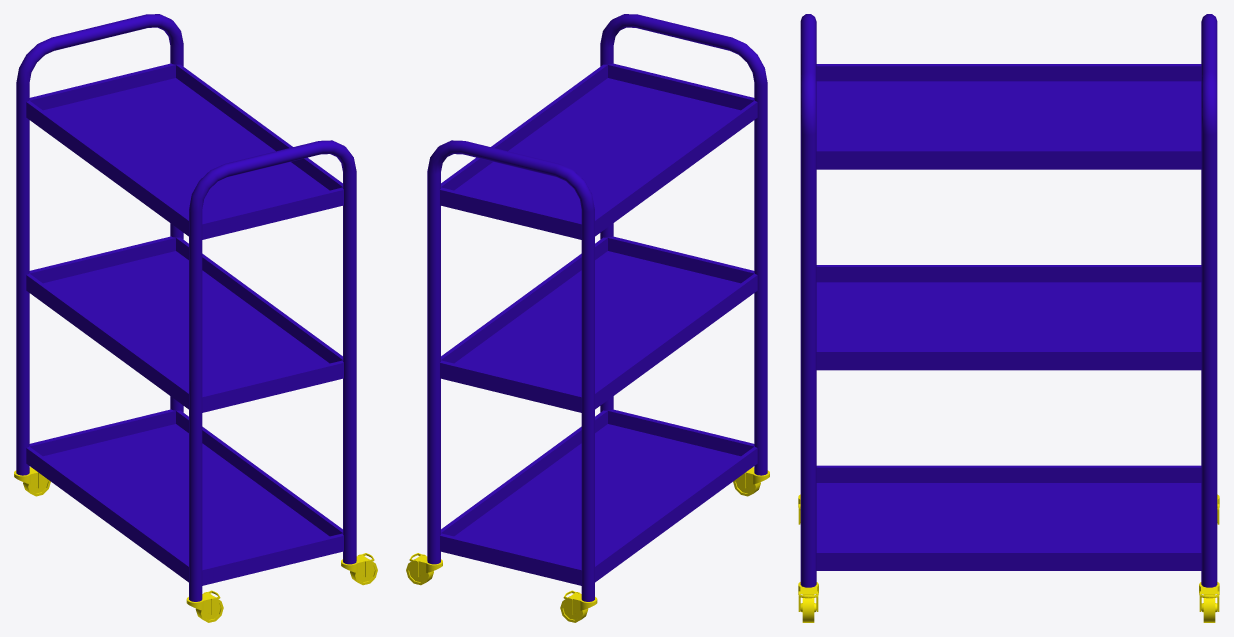
File: NuevaMesa_LowPoly_v9.fbx
3 views of the same model, side by side, from view 1: azimuth 30°, elevation 25°; view 2: azimuth 150°, elevation 25°; view 3: azimuth 270°, elevation 25° (orthographic). The views are drawn at different scales.
Parts seen in each view (by area): view 1: pCube11, pCube19, pCube15, pTorus4, pTorus5; view 2: pCube11, pCube19, pCube15, pTorus5, pTorus4; view 3: pCube11, pCube15, pCube19, pTorus4, pTorus5.
Boxes of the visible parts, x1,y1,x2,y2 form: pCube11: (26,63,343,239); pCube19: (26,409,343,585); pCube15: (26,236,343,412); pTorus4: (189,140,356,601); pTorus5: (16,14,183,475); pCube11: (440,63,757,239); pCube19: (440,409,757,585); pCube15: (440,236,757,412); pTorus5: (427,140,594,601); pTorus4: (600,14,767,475); pCube11: (816,64,1201,169); pCube15: (816,265,1201,370); pCube19: (816,465,1201,570); pTorus4: (800,14,816,587); pTorus5: (1201,14,1217,587).
Bounding box in the file's own units: 0.4346 × 0.9999 × 0.7288.
